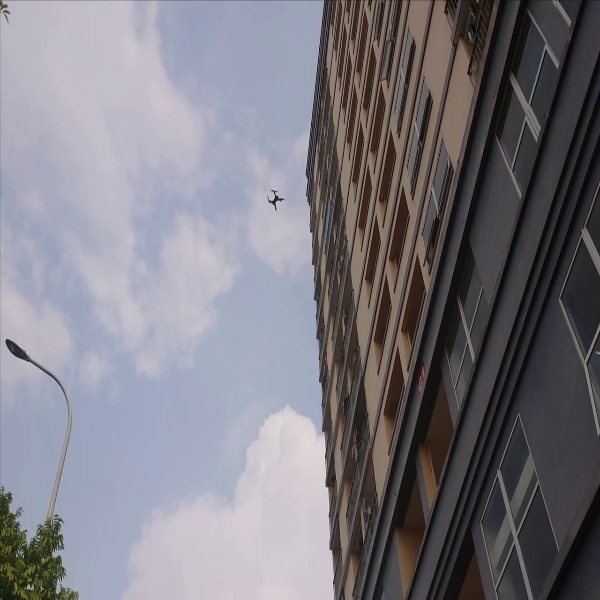drone: (262, 181, 292, 213)
